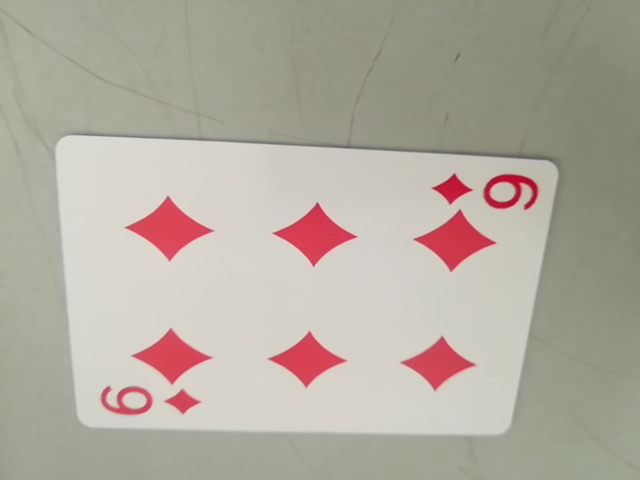fk 6: (430, 167, 541, 213), (96, 379, 202, 426)
